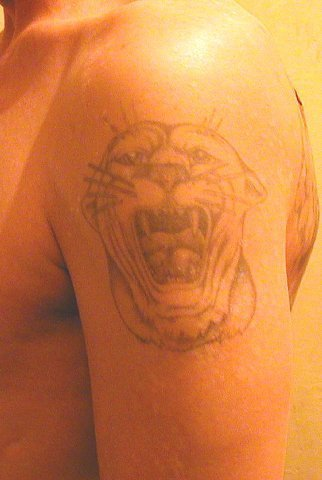tatu5_tigr: (77, 106, 270, 352)
